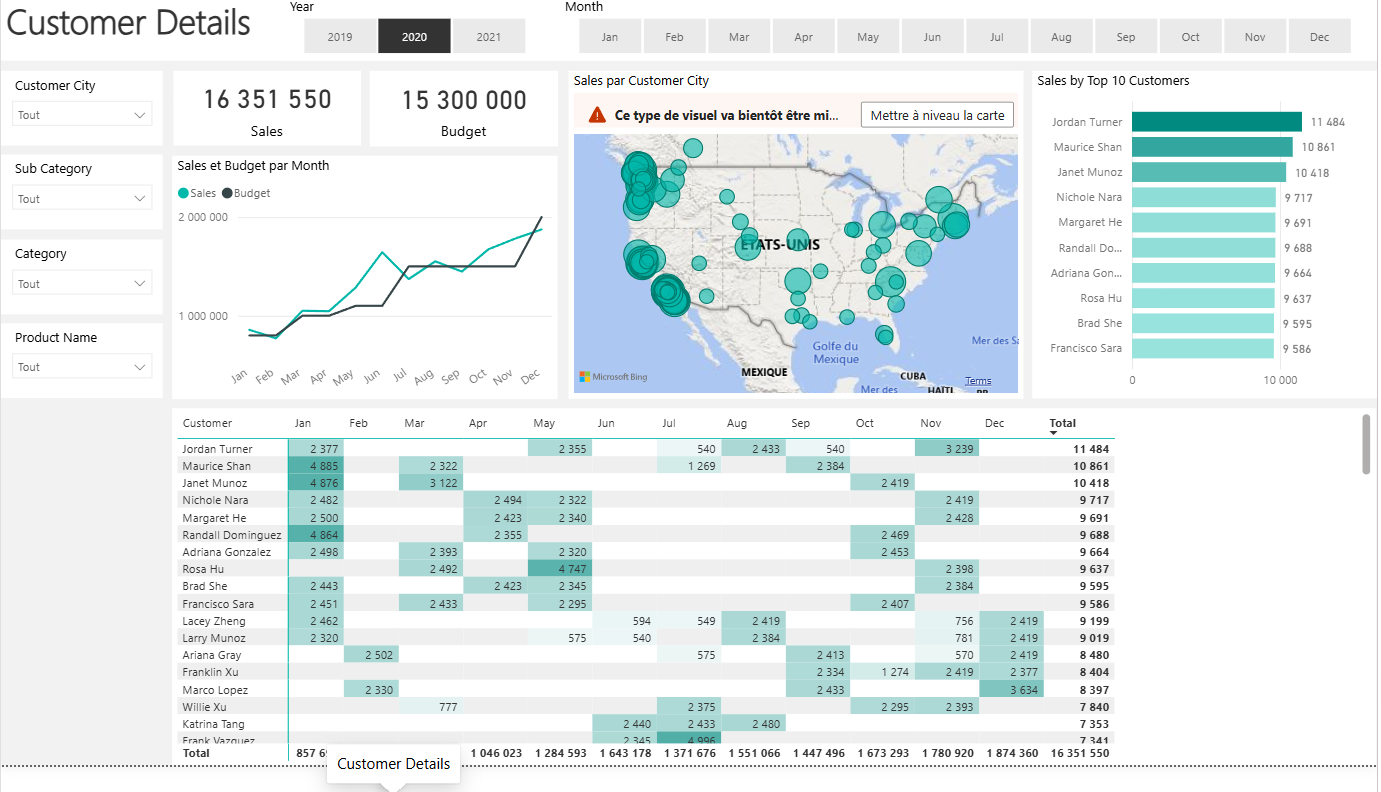

This screenshot's page, from the dashboard's own definition file:
{"tool":"powerbi","page":{"name":"Customer Details","canvas":[1280,720],"ordinal":1},"visuals":[{"type":"textbox","box":[0,0,1280,64],"z":0},{"type":"slicer","fields":{"Values":["DIM_Calendar.Year"]},"box":[256,0,256,64],"z":1000},{"type":"slicer","fields":{"Values":["DIM_Calendar.MonthShort"]},"box":[512,0,768,64],"z":2000},{"type":"slicer","fields":{"Values":["DIM_Customers.Customer City"]},"box":[0,73,150.5,69.3],"z":3000},{"type":"slicer","fields":{"Values":["DIM_Products.Product Category"]},"box":[0,229.9,150.5,69.3],"z":4000},{"type":"slicer","fields":{"Values":["DIM_Products.Product Name"]},"box":[0,308.4,150.5,69.3],"z":5000},{"type":"slicer","fields":{"Values":["DIM_Products.Sub Category"]},"box":[0,151.4,150.5,69.3],"z":6000},{"type":"lineChart","fields":{"Category":["DIM_Calendar.MonthShort"],"Y":["Analysis Metrics.Sales","Analysis Metrics.Budget"]},"box":[159.8,151.8,358.7,226.4],"z":7000},{"type":"card","fields":{"Values":["Analysis Metrics.Sales"]},"box":[160.7,72.8,174,69.2],"z":8000},{"type":"map","fields":{"Category":["DIM_Customers.Customer City"],"Size":["Analysis Metrics.Sales"]},"box":[527.3,72.8,423.5,304.5],"z":9000},{"type":"card","fields":{"Values":["Analysis Metrics.Budget"]},"box":[343.6,72.8,174.9,70.1],"z":10000},{"type":"pivotTable","fields":{"Columns":["DIM_Calendar.MonthShort"],"Rows":["DIM_Customers.Full Name"],"Values":["Analysis Metrics.Sales"]},"box":[159.8,387.1,1120.4,332.9],"z":11000},{"type":"barChart","title":"Sales by Top 10 Customers","fields":{"Category":["DIM_Customers.Full Name"],"Y":["Analysis Metrics.Sales"]},"box":[959.7,72.8,320.5,304.5],"z":12000}]}

Visuals, with their boxes on the page's 1280x720 design canvas (x1, y1, x2, y2). These are canvas units, not pixel positions in the 1381x792 screenshot, which may show the page scaled, cropped or inside an application window:
textbox: [left=0, top=0, right=1280, bottom=64]
slicer - DIM_Calendar.Year: [left=256, top=0, right=512, bottom=64]
slicer - DIM_Calendar.MonthShort: [left=512, top=0, right=1280, bottom=64]
slicer - DIM_Customers.Customer City: [left=0, top=73, right=150, bottom=142]
slicer - DIM_Products.Product Category: [left=0, top=230, right=150, bottom=299]
slicer - DIM_Products.Product Name: [left=0, top=308, right=150, bottom=378]
slicer - DIM_Products.Sub Category: [left=0, top=151, right=150, bottom=221]
lineChart - DIM_Calendar.MonthShort x Analysis Metrics.Sales: [left=160, top=152, right=518, bottom=378]
card - Analysis Metrics.Sales: [left=161, top=73, right=335, bottom=142]
map - DIM_Customers.Customer City x Analysis Metrics.Sales: [left=527, top=73, right=951, bottom=377]
card - Analysis Metrics.Budget: [left=344, top=73, right=518, bottom=143]
pivotTable - DIM_Calendar.MonthShort x DIM_Customers.Full Name: [left=160, top=387, right=1280, bottom=720]
"Sales by Top 10 Customers" barChart: [left=960, top=73, right=1280, bottom=377]
